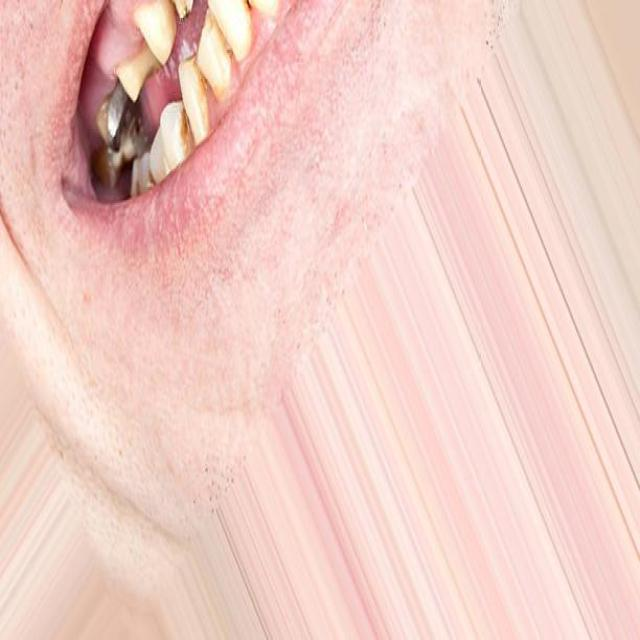caries: (96, 94, 136, 156), (170, 0, 198, 26)
